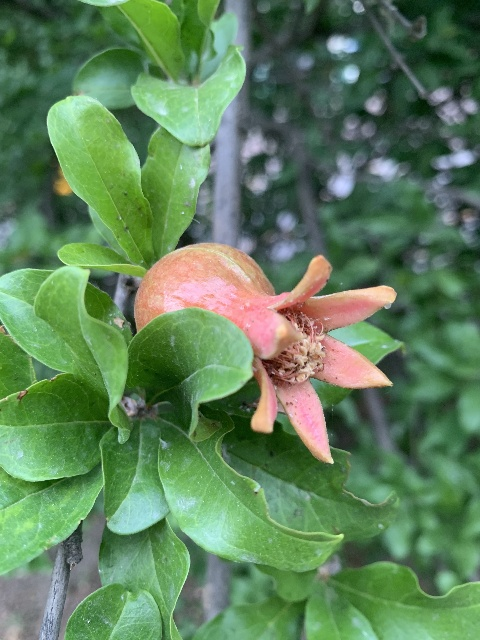early-fruit: (133, 242, 396, 462)
